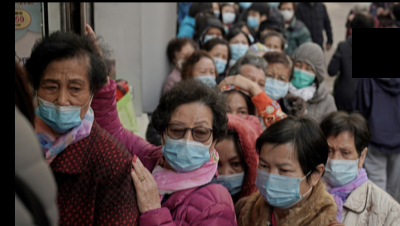mask_weared_incorrect: (34, 73, 90, 131)
with_mask: (164, 116, 211, 173), (255, 155, 305, 207), (323, 142, 359, 187), (215, 151, 244, 194), (264, 69, 289, 101), (290, 62, 316, 89), (192, 67, 218, 89), (228, 37, 248, 59), (210, 50, 228, 74), (246, 13, 262, 28), (221, 10, 236, 24), (280, 8, 295, 21)
